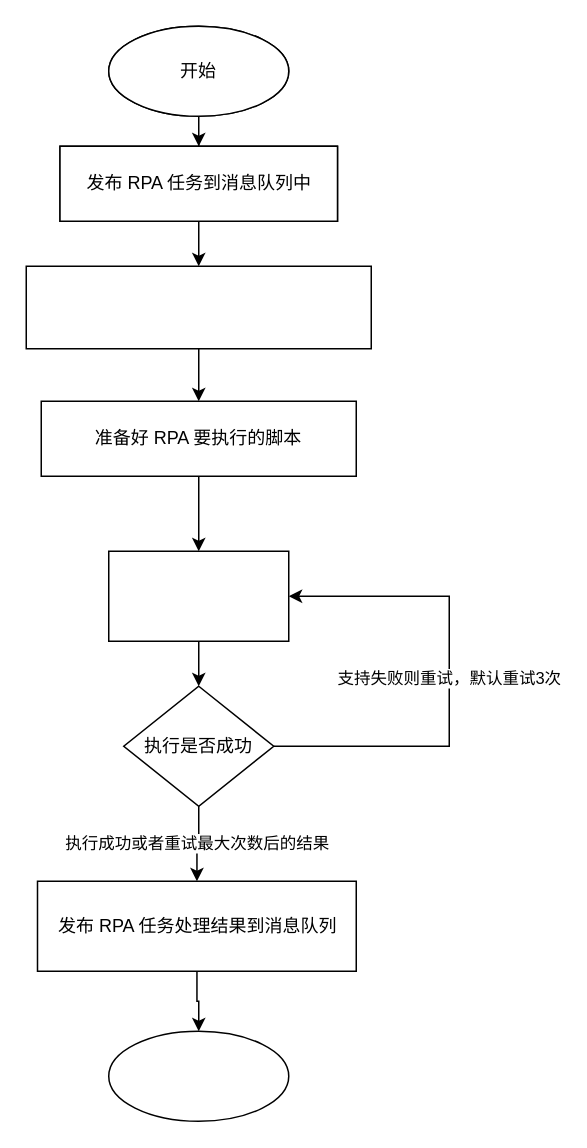
Some shapes in this 587 by 1148 pixel diagram are drawn without their labels. Each missing label, with the box of its shape:
从消息队列中取出 RPA 任务: (25, 265, 371, 349)
开始执行脚本: (107, 550, 289, 641)
结束: (107, 1030, 289, 1121)
